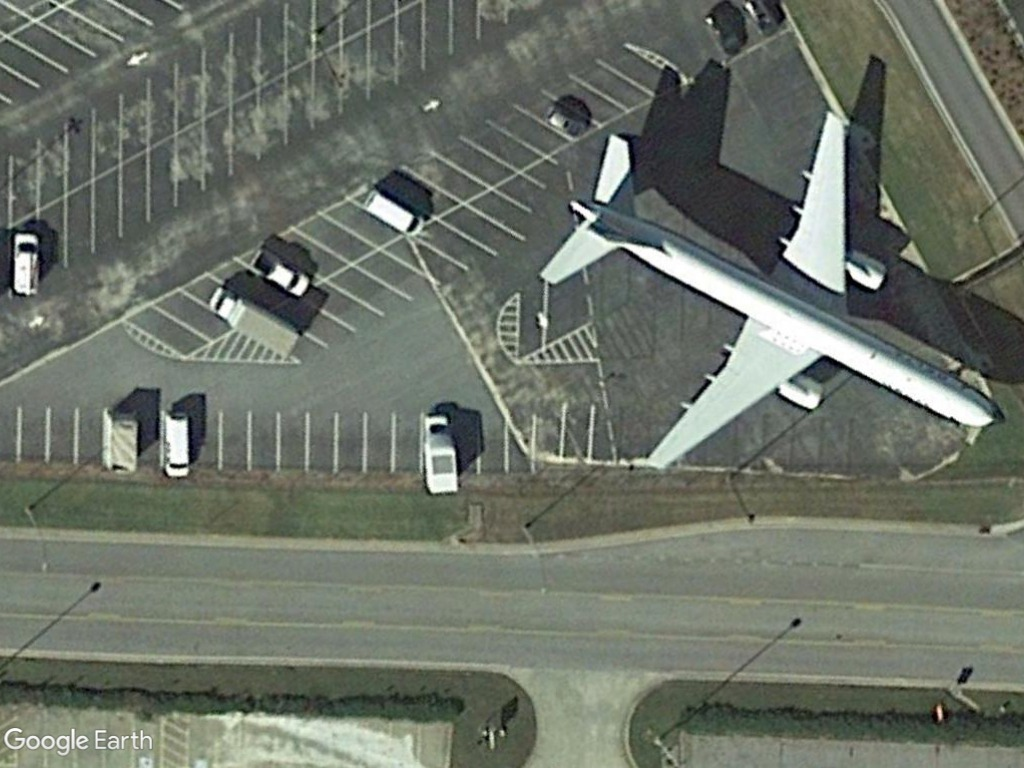airliner: (519, 100, 1007, 475)
truck: (198, 286, 306, 361)
van: (361, 187, 428, 244), (6, 229, 45, 301), (160, 408, 195, 481)
